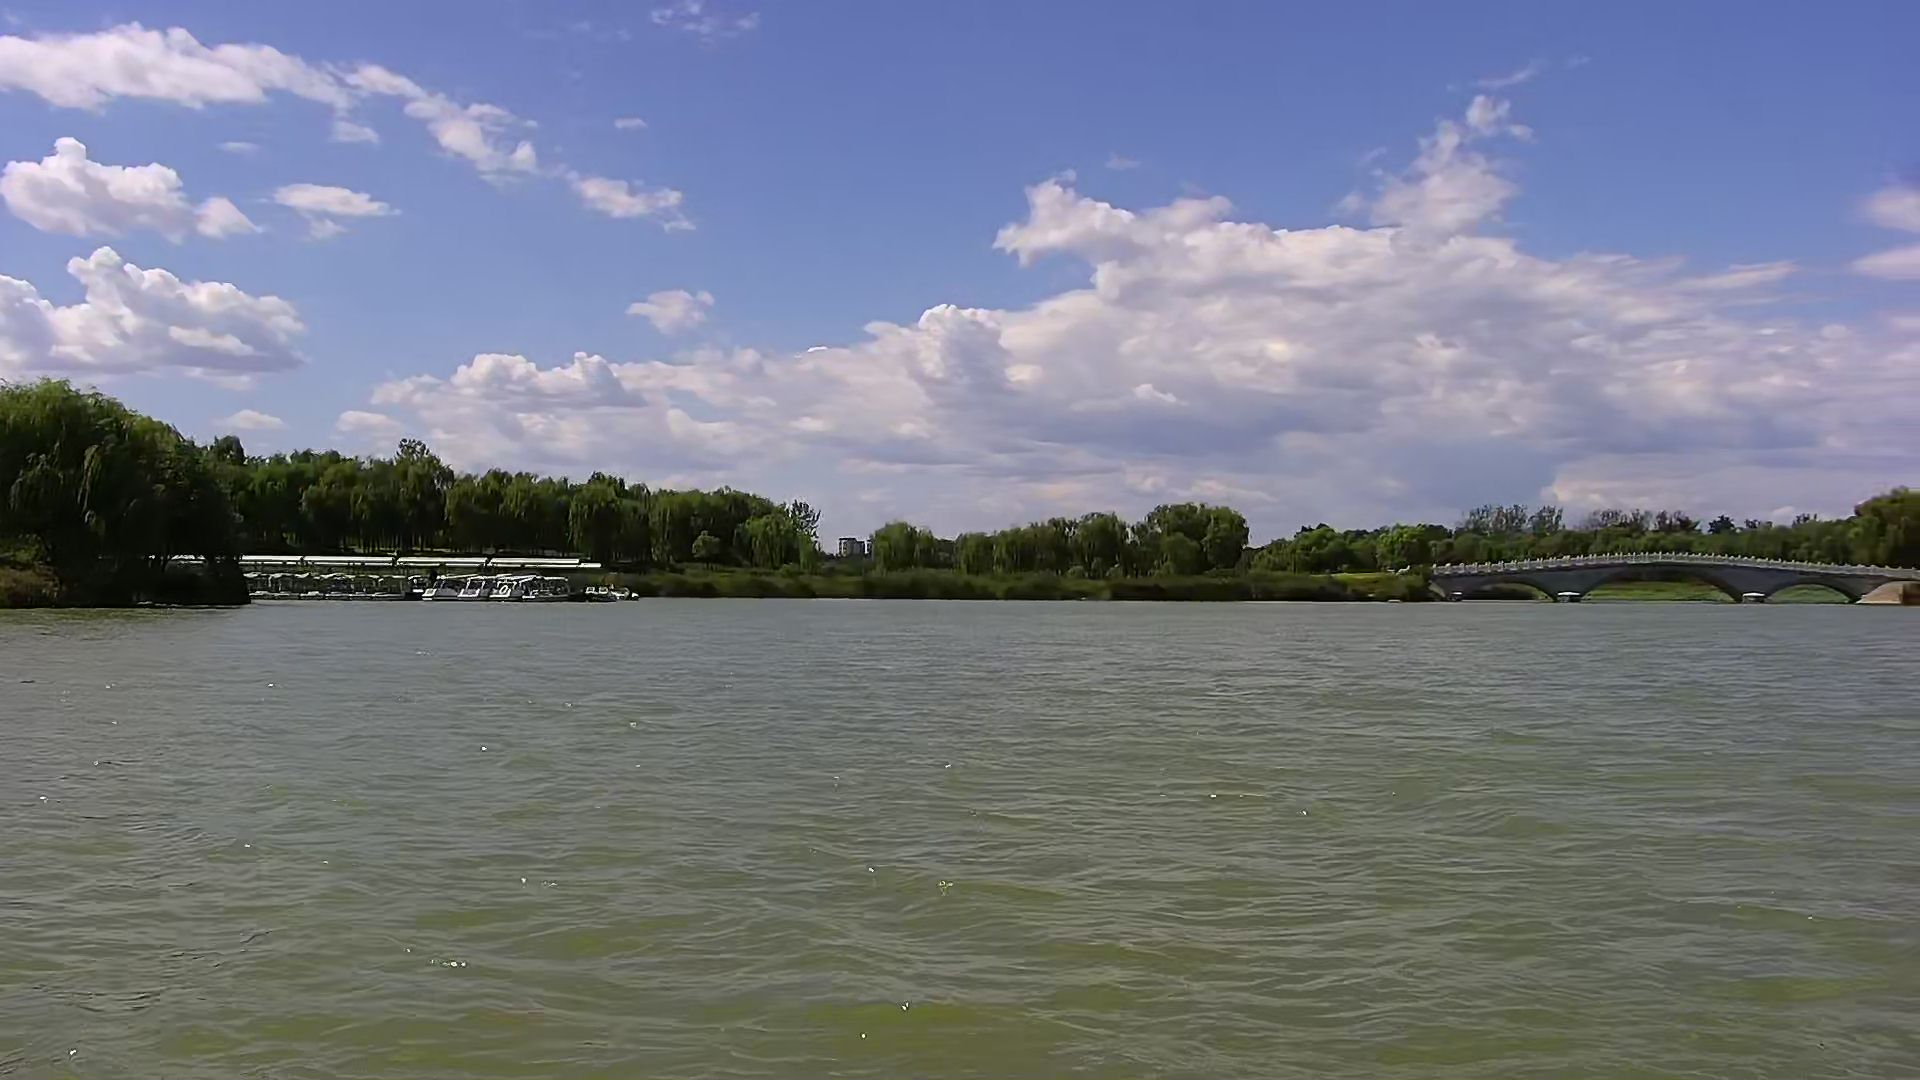bridge: (1428, 549, 1920, 603)
harbor: (243, 551, 645, 607)
